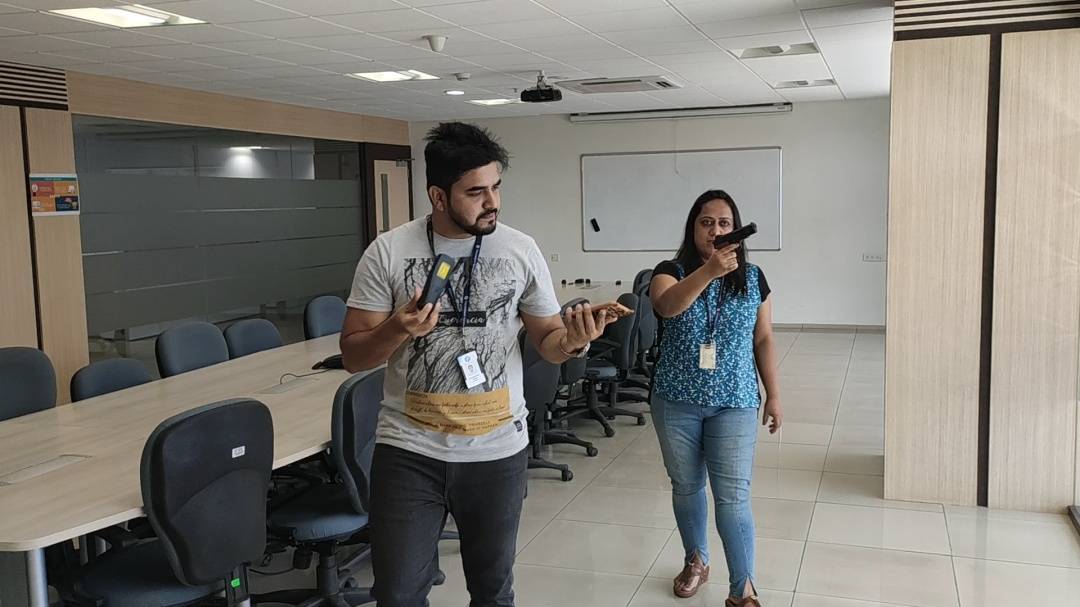gun: (714, 222, 758, 249)
